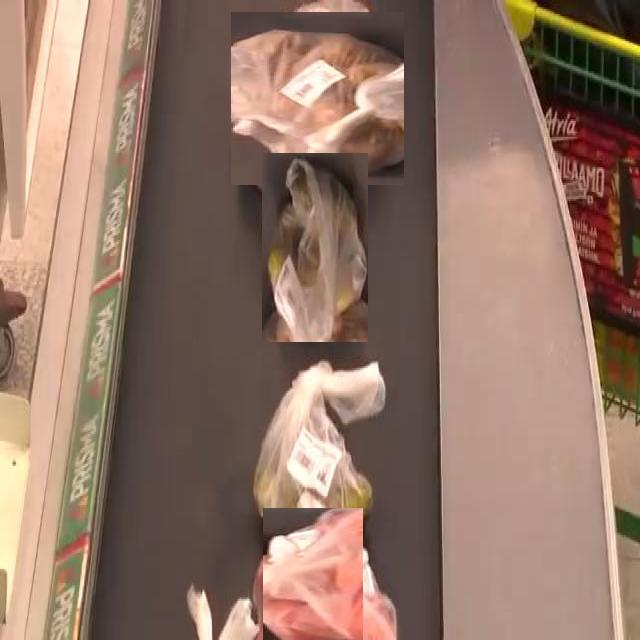fruit: (245, 381, 389, 531), (261, 152, 368, 342)
vegetable: (231, 12, 404, 185), (246, 523, 379, 640)
